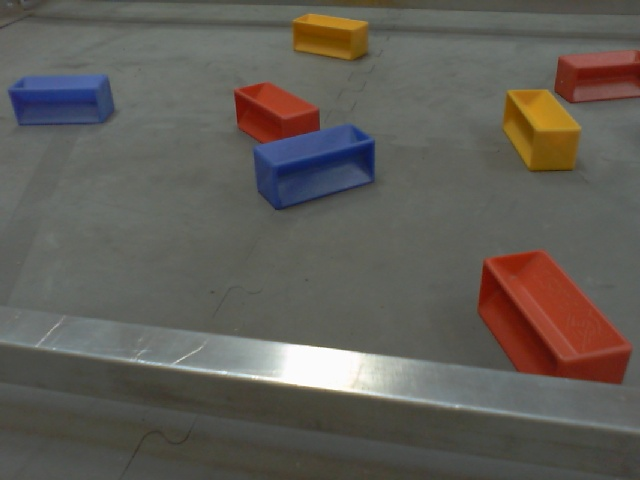BlueSample: (250, 123, 378, 212), (5, 73, 120, 126)
RedSample: (474, 241, 637, 396), (227, 79, 322, 146), (551, 48, 640, 104)
YellowSample: (498, 83, 585, 176), (288, 9, 372, 65)
